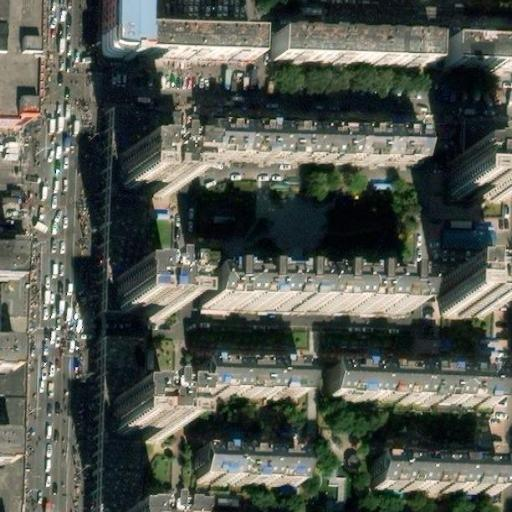building: (87, 112, 173, 512), (194, 276, 409, 316), (207, 123, 425, 161), (319, 365, 497, 406), (276, 29, 438, 61), (376, 452, 506, 490), (200, 444, 305, 484), (112, 135, 173, 191), (142, 30, 255, 58), (438, 155, 506, 197), (111, 273, 175, 316), (438, 281, 501, 322), (108, 396, 171, 437), (205, 372, 311, 395), (443, 36, 512, 66), (0, 193, 21, 223), (0, 346, 13, 376)
